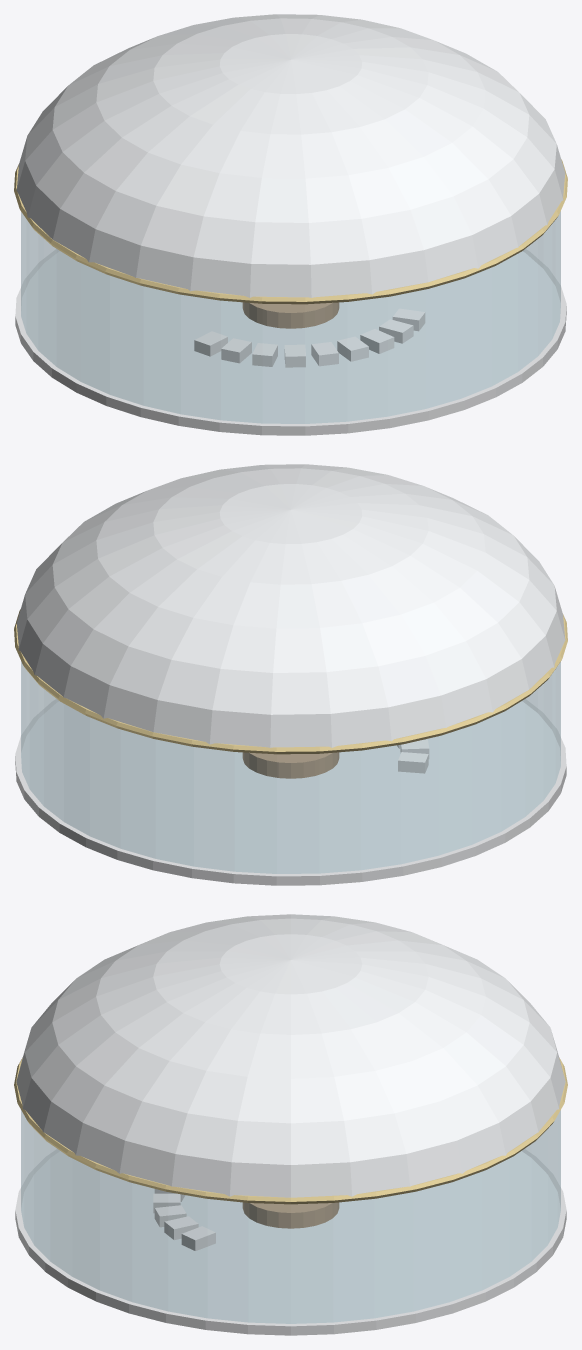
Rendered from reef-int-home.glb.
3 views of the same model, one above another, from view 1: azimuth 30°, elevation 25°; view 2: azimuth 150°, elevation 25°; view 3: azimuth 270°, elevation 25° (orthographic).
Parts seen in each view (by area): view 1: Sphere.062, Cylinder.112, Cylinder.111, Torus.272, Cylinder.113; view 2: Sphere.062, Cylinder.111, Cylinder.112, Torus.272, Cylinder.113; view 3: Sphere.062, Cylinder.111, Cylinder.112, Torus.272, Cylinder.113.
Boxes of the visible parts, x1,y1,x2,y2 form: Sphere.062: (16,14,565,367); Cylinder.112: (21,211,560,423); Cylinder.111: (15,249,566,435); Torus.272: (14,159,567,304); Cylinder.113: (242,302,339,328); Sphere.062: (16,464,565,773); Cylinder.111: (15,699,566,885); Cylinder.112: (21,661,560,873); Torus.272: (14,609,567,754); Cylinder.113: (242,752,339,778); Sphere.062: (16,914,565,1250); Cylinder.111: (15,1149,566,1335); Cylinder.112: (21,1110,560,1323); Torus.272: (14,1058,567,1204); Cylinder.113: (242,1202,339,1228).
Size of the model in its own units: 16.08 by 8.3 by 16.08.
